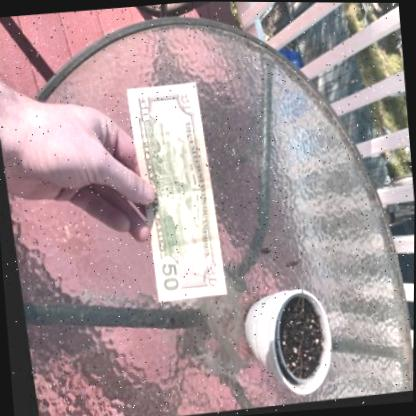fifty-back: (125, 81, 224, 306)
